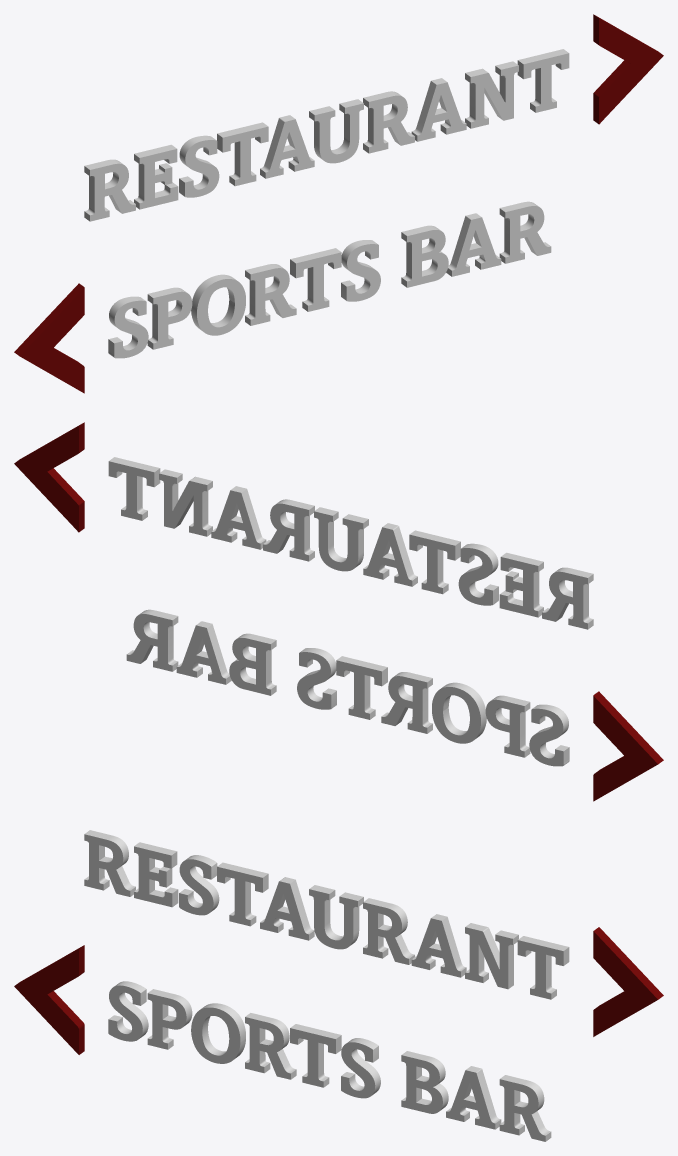
The model's file is BP_wayfind_front.FBX.
The picture shows the model from 3 angles, top to bottom: view 1: azimuth 30°, elevation 25°; view 2: azimuth 150°, elevation 25°; view 3: azimuth 330°, elevation 25°; orthographic projection.
Visible parts, largest first — view 1: Shape1, Shape033, Shape035, Shape034; view 2: Shape1, Shape033, Shape035, Shape034; view 3: Shape1, Shape033, Shape035, Shape034.
Boxes of the visible parts, <box> form: Shape1: <box>84,49,569,221</box>; Shape033: <box>108,201,551,358</box>; Shape035: <box>14,283,84,393</box>; Shape034: <box>593,14,663,124</box>; Shape1: <box>108,457,593,629</box>; Shape033: <box>126,609,569,766</box>; Shape035: <box>593,691,663,801</box>; Shape034: <box>14,422,84,532</box>; Shape1: <box>84,830,569,999</box>; Shape033: <box>108,981,551,1141</box>; Shape035: <box>14,945,84,1054</box>; Shape034: <box>593,927,663,1036</box>.
Bounding box in the file's own units: 51.38 × 19.03 × 0.7942.
